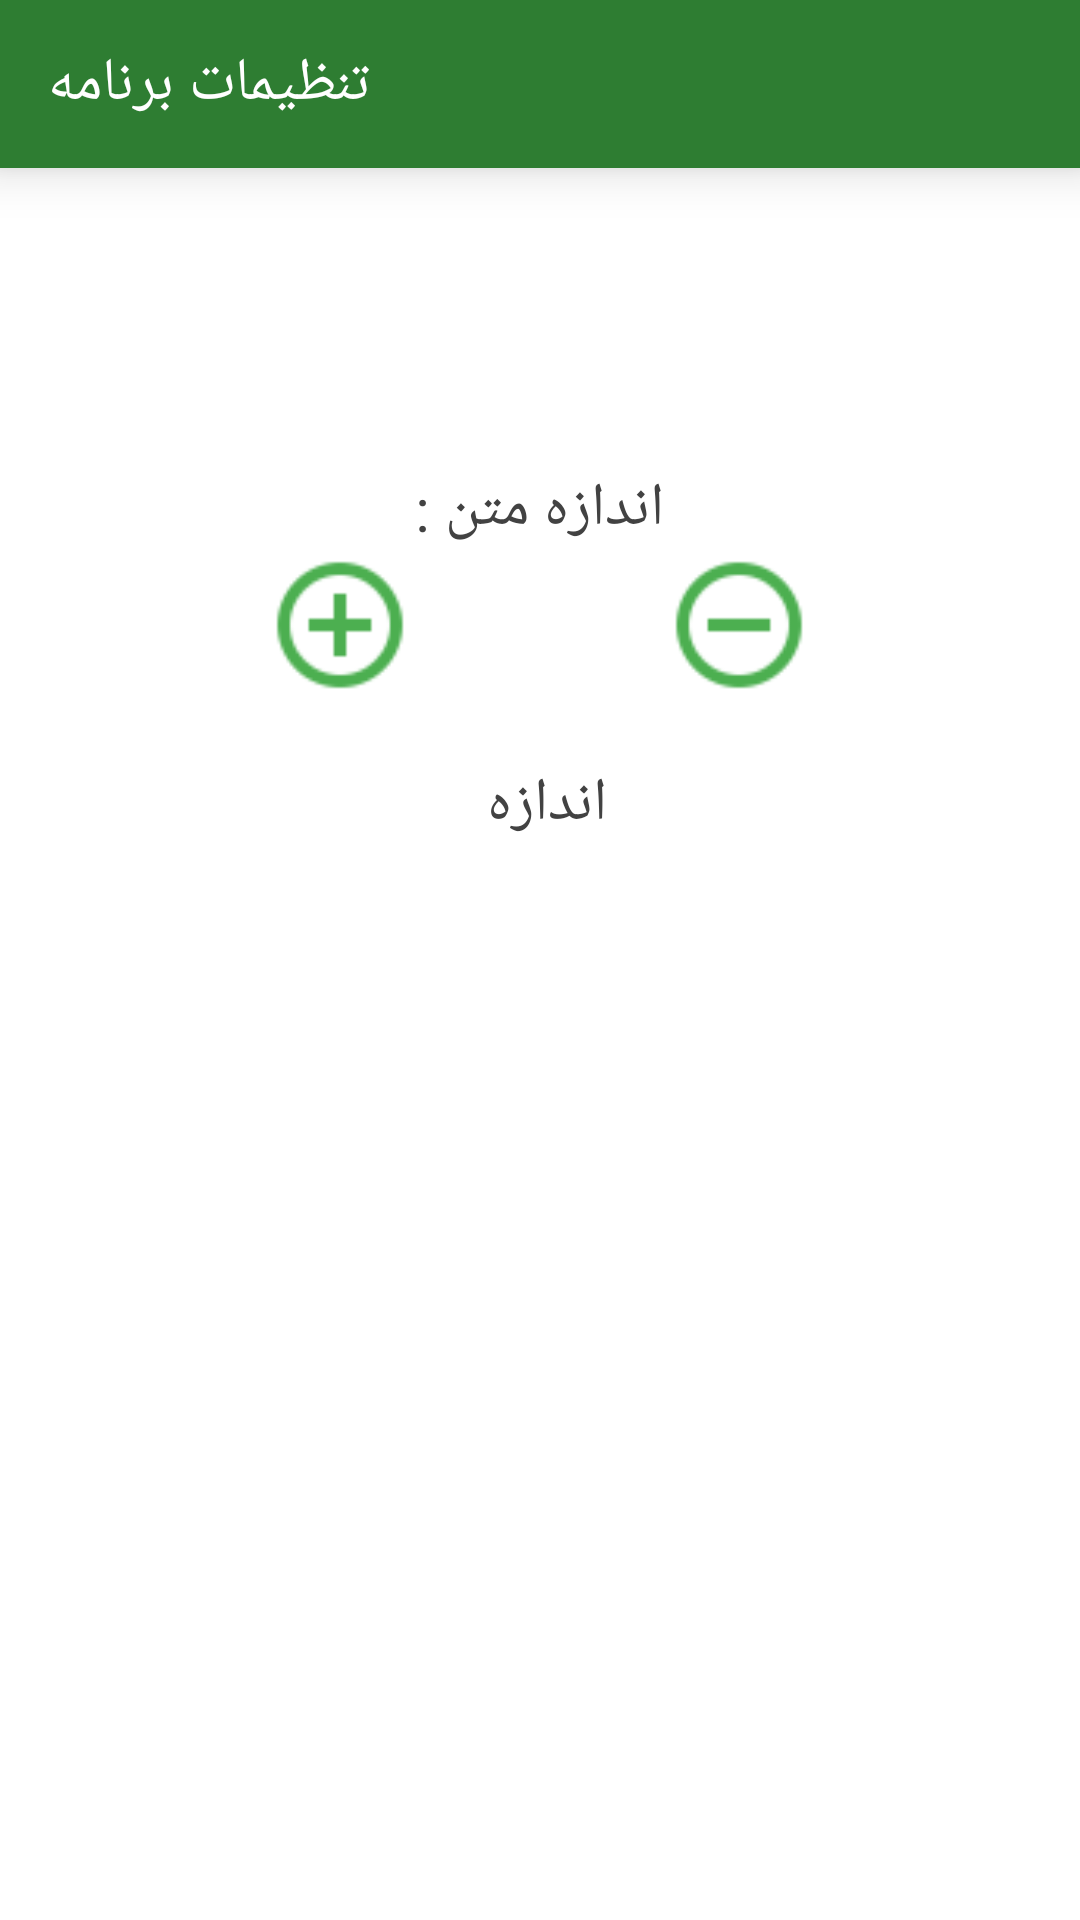

Icons on this 1080x1920 Android screen, each with the point to tap as (x=x, y=y):
minus: (x=739, y=625)
plus: (x=340, y=625)
